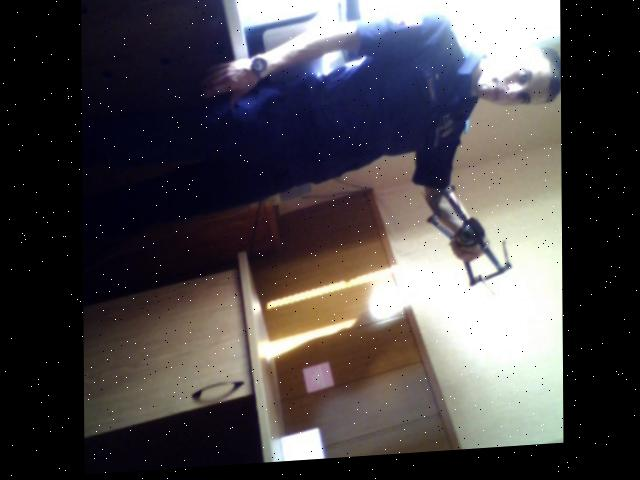drone: (409, 190, 520, 300)
